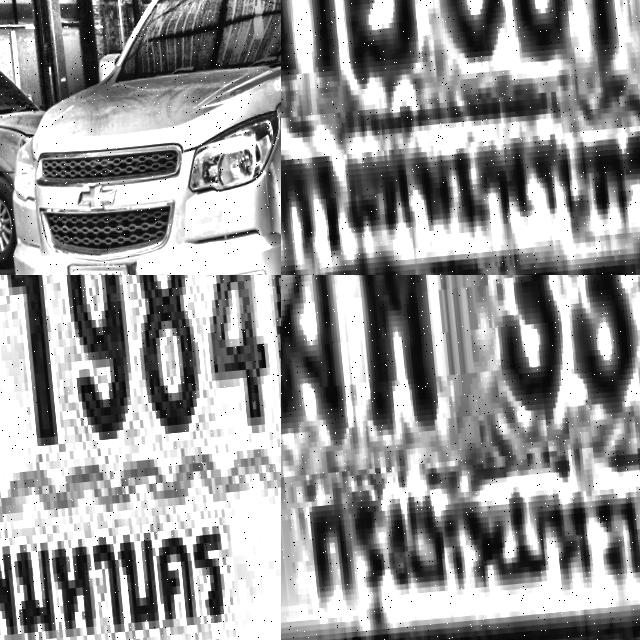license-plate: (281, 275, 640, 640), (0, 275, 281, 640), (281, 0, 640, 275), (56, 261, 125, 275)
